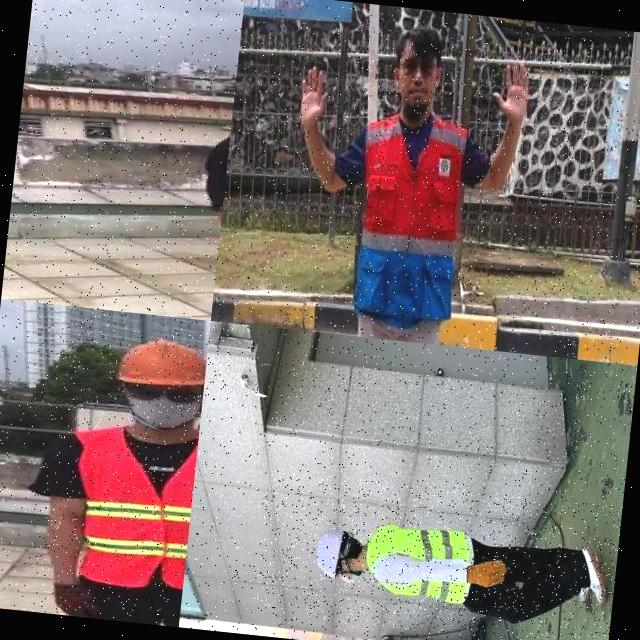boots: (570, 541, 617, 611)
helmet: (107, 330, 208, 396), (312, 523, 348, 585)
vest: (346, 109, 474, 327), (68, 422, 198, 593), (357, 519, 479, 608)
